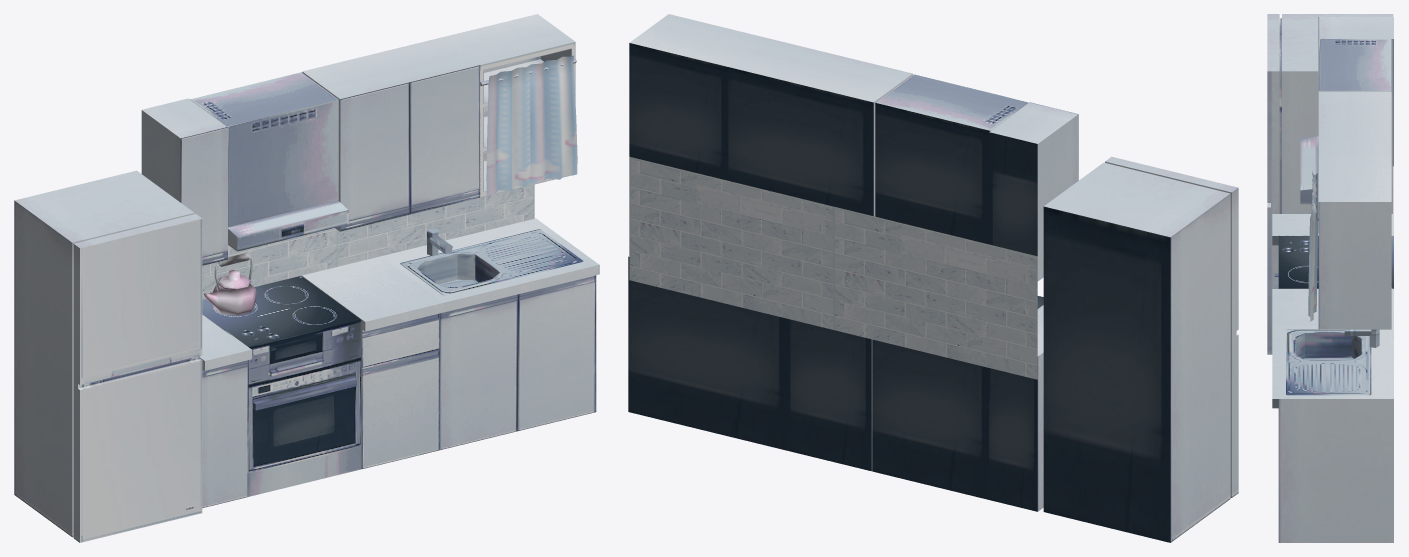
File: Bedroom Full Kitchen.fbx
3 renders of one model, left to right at view 1: azimuth 30°, elevation 25°; view 2: azimuth 150°, elevation 25°; view 3: azimuth 270°, elevation 25°, orthographic. The views are drawn at different scales.
Parts seen in each view (by area): view 1: Refridgerator, Cabinet Sink, Oven stove.002, Oven stove, Oven stove.001, Cabinet Drawer, Splash, Shelf Curtain, Thin Cabinet.001, Thin Cabinet, Oven stove.003, Cube.001; view 2: Refridgerator, Splash, Oven stove.002, Cabinet Sink, Oven stove.001, Oven stove, Oven stove.003, Cabinet Drawer, Thin Cabinet.001, Thin Cabinet; view 3: Cabinet Sink, Oven stove.003, Refridgerator, Oven stove.001, Oven stove.002, Thin Cabinet.001, Oven stove, Cabinet Drawer, Shelf Curtain, Thin Cabinet, Cylinder.001.
Boxes of the visible parts, bbox=[...] form: Refridgerator: bbox=[14, 170, 202, 542]; Cabinet Sink: bbox=[380, 218, 599, 449]; Oven stove.002: bbox=[302, 37, 480, 231]; Oven stove: bbox=[202, 276, 361, 496]; Oven stove.001: bbox=[190, 72, 348, 251]; Cabinet Drawer: bbox=[302, 256, 442, 468]; Splash: bbox=[202, 184, 534, 299]; Shelf Curtain: bbox=[486, 55, 577, 195]; Thin Cabinet.001: bbox=[141, 98, 227, 265]; Thin Cabinet: bbox=[200, 315, 251, 507]; Oven stove.003: bbox=[442, 14, 575, 197]; Cube.001: bbox=[204, 253, 256, 315]; Refridgerator: bbox=[1043, 156, 1238, 542]; Splash: bbox=[629, 156, 1037, 379]; Oven stove.002: bbox=[728, 38, 912, 216]; Cabinet Sink: bbox=[628, 256, 790, 451]; Oven stove.001: bbox=[875, 74, 1029, 244]; Oven stove: bbox=[872, 296, 1043, 499]; Oven stove.003: bbox=[629, 14, 767, 180]; Cabinet Drawer: bbox=[790, 319, 872, 471]; Thin Cabinet.001: bbox=[989, 102, 1078, 281]; Thin Cabinet: bbox=[989, 305, 1043, 511]; Cabinet Sink: bbox=[1272, 325, 1393, 542]; Oven stove.003: bbox=[1318, 157, 1391, 329]; Refridgerator: bbox=[1267, 14, 1393, 354]; Oven stove.001: bbox=[1300, 39, 1391, 204]; Oven stove.002: bbox=[1318, 91, 1391, 156]; Thin Cabinet.001: bbox=[1318, 17, 1393, 166]; Oven stove: bbox=[1274, 235, 1393, 288]; Cabinet Drawer: bbox=[1272, 289, 1393, 325]; Shelf Curtain: bbox=[1308, 171, 1318, 321]; Thin Cabinet: bbox=[1272, 214, 1393, 245]; Cylinder.001: bbox=[1344, 329, 1379, 347].
Size of the model in its own units: 918 by 596 by 202.
